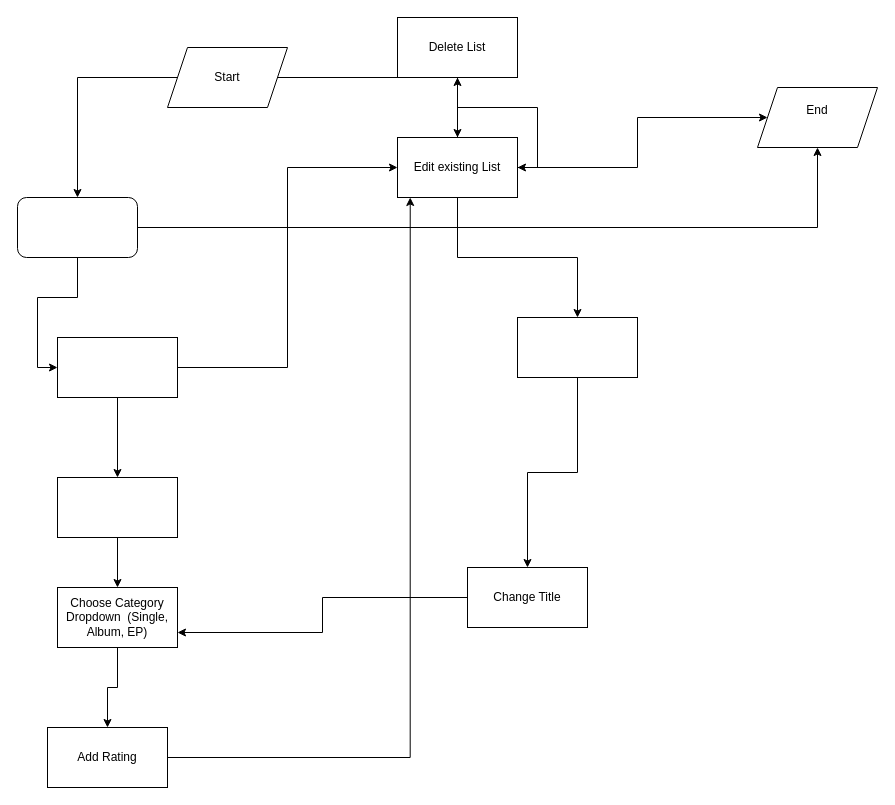
Image size: 895x805. Some labels were removed from this diagram. The box of each missing label's shape, as (x1, y1, x2, y2) in pixels:
Add Music: (56, 336, 178, 398)
Add Title: (56, 476, 178, 538)
Create New Listening History List: (16, 196, 138, 258)
Edit Existing Music: (516, 316, 638, 378)
